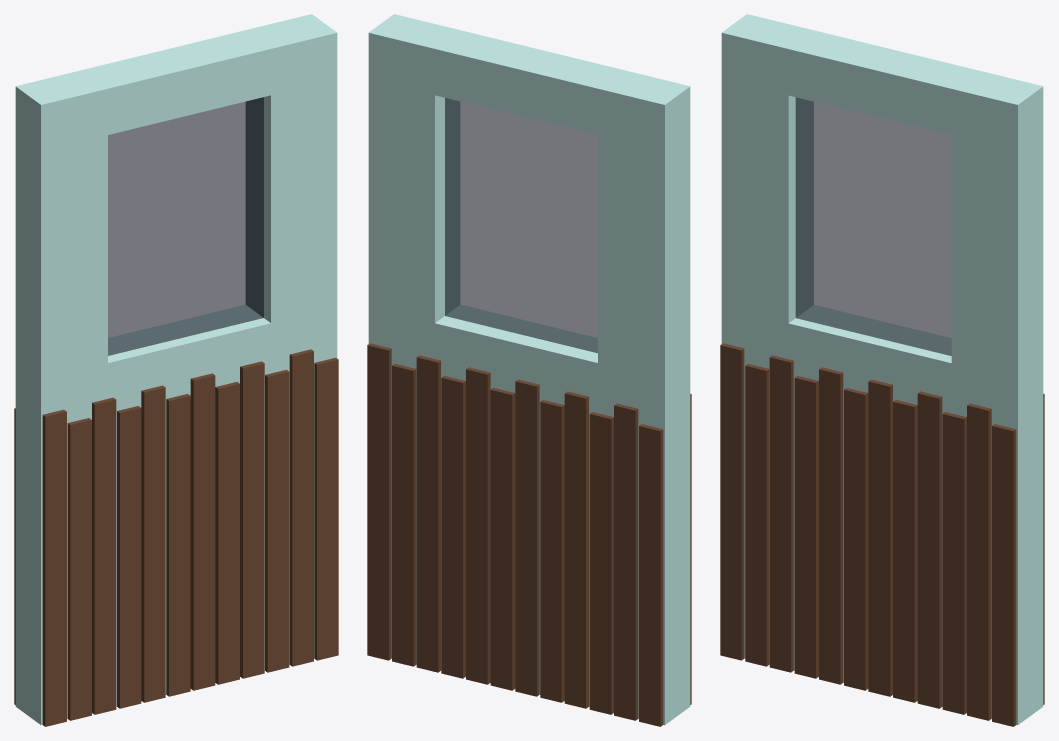
The model's file is BeachWindow.glb.
The picture shows the model from 3 angles, left to right: view 1: azimuth 30°, elevation 25°; view 2: azimuth 150°, elevation 25°; view 3: azimuth 330°, elevation 25°; orthographic projection.
Visible parts, largest first — view 1: wall_beach_window; view 2: wall_beach_window; view 3: wall_beach_window.
Boxes of the visible parts, x1,y1,x2,y2 form: wall_beach_window: [14, 14, 338, 726]; wall_beach_window: [367, 14, 691, 726]; wall_beach_window: [720, 14, 1044, 726].
Size of what is drawn, in the model's own units: 2 by 4 by 0.3647.
Materials: 2 (2 with a texture image).
